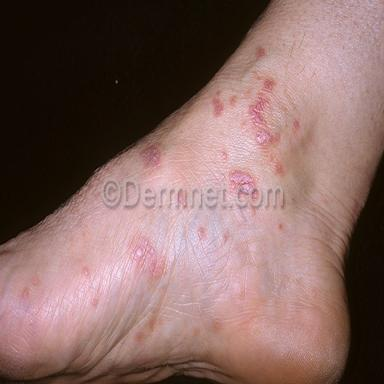lichen: (248, 79, 279, 147), (133, 238, 165, 280), (229, 170, 255, 188), (142, 145, 161, 168), (213, 96, 223, 117), (275, 161, 284, 175), (256, 46, 265, 59), (197, 227, 205, 240), (294, 121, 299, 129)
